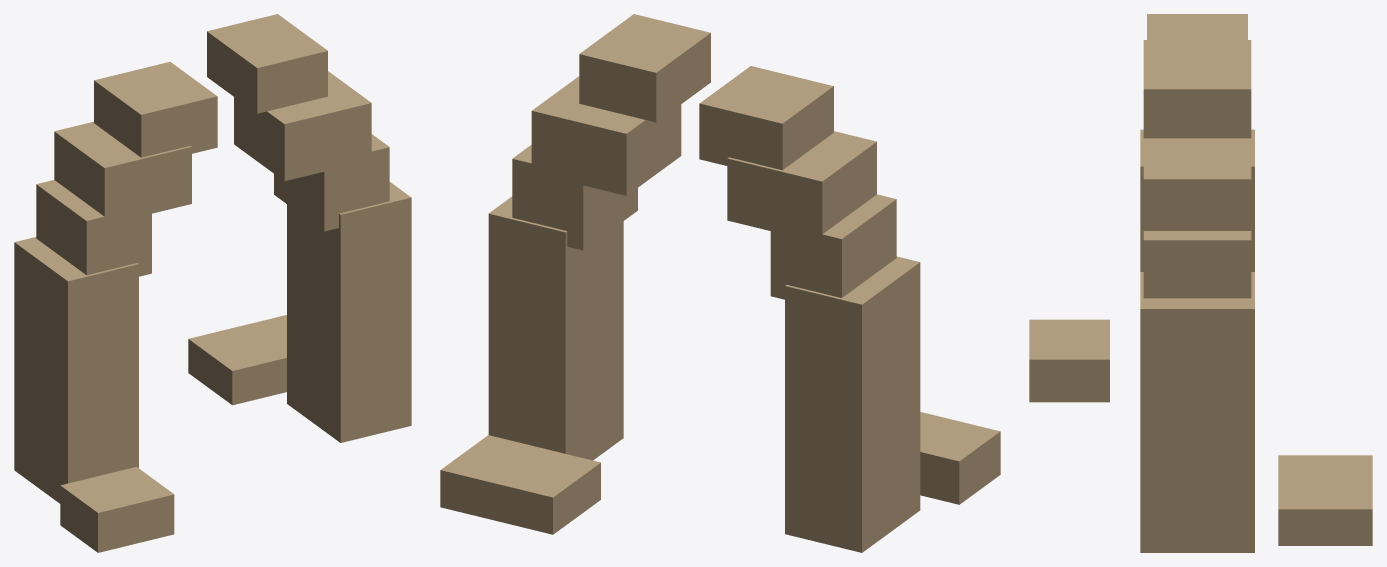
Rendered from ruin_arche_brisee_01.glb.
3 views of the same model, side by side, from view 1: azimuth 30°, elevation 25°; view 2: azimuth 150°, elevation 25°; view 3: azimuth 270°, elevation 25° (orthographic). The views are drawn at different scales.
Visible parts, largest first — view 1: geometry_0; view 2: geometry_0; view 3: geometry_0.
Part boxes in pixels (x1=…): geometry_0: x1=14, y1=14, x2=411, y2=552; geometry_0: x1=440, y1=14, x2=1000, y2=552; geometry_0: x1=1029, y1=14, x2=1372, y2=552.
Bounding box in the file's own units: 0.67 × 0.69 × 0.51.
